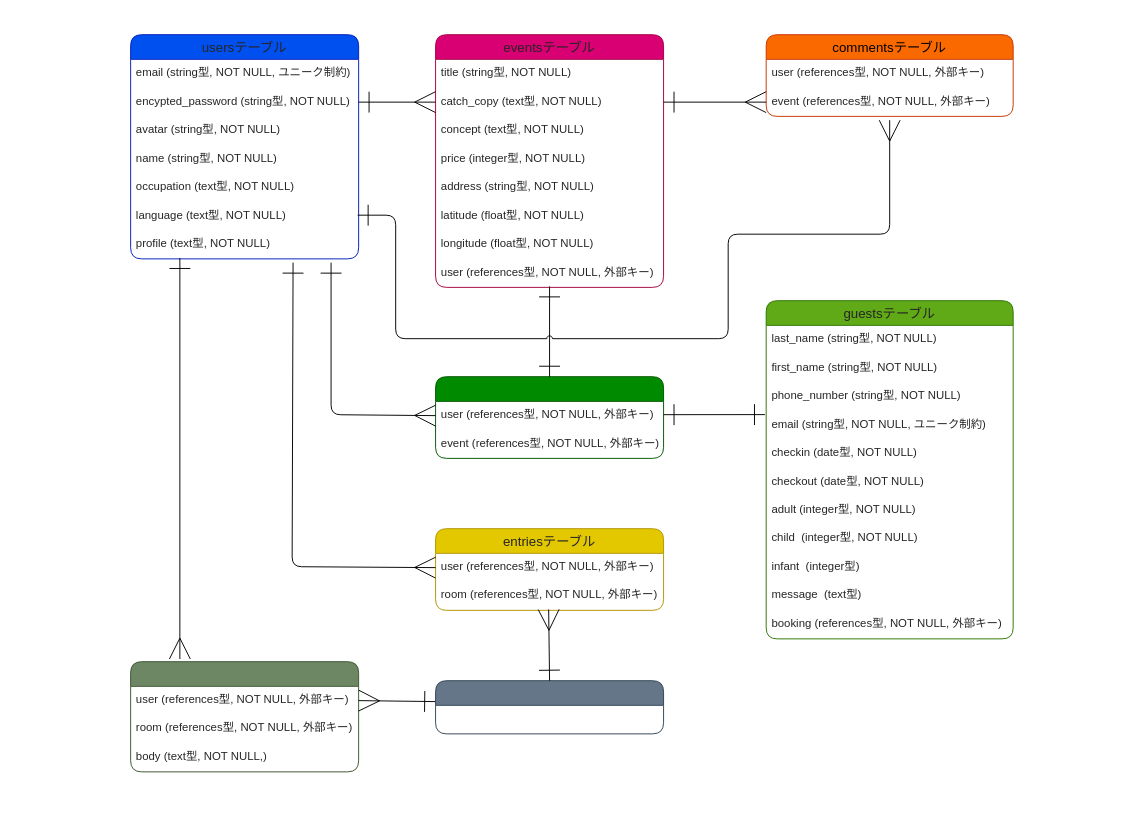
This 1140x815 diagram has some shape labels left out. Each missing label, with the box of its shape:
bookingsテーブル: (435, 376, 664, 458)
messagesテーブル: (130, 661, 359, 772)
roomsテーブル: (435, 680, 664, 734)
